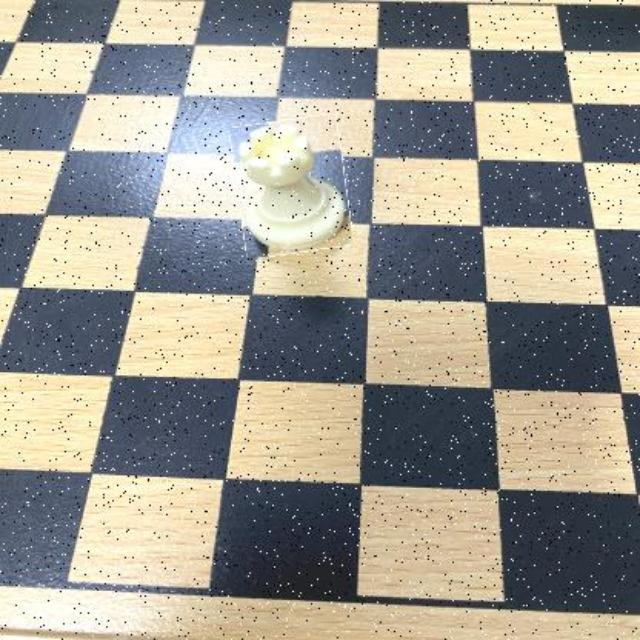white-rook: (234, 116, 350, 256)
